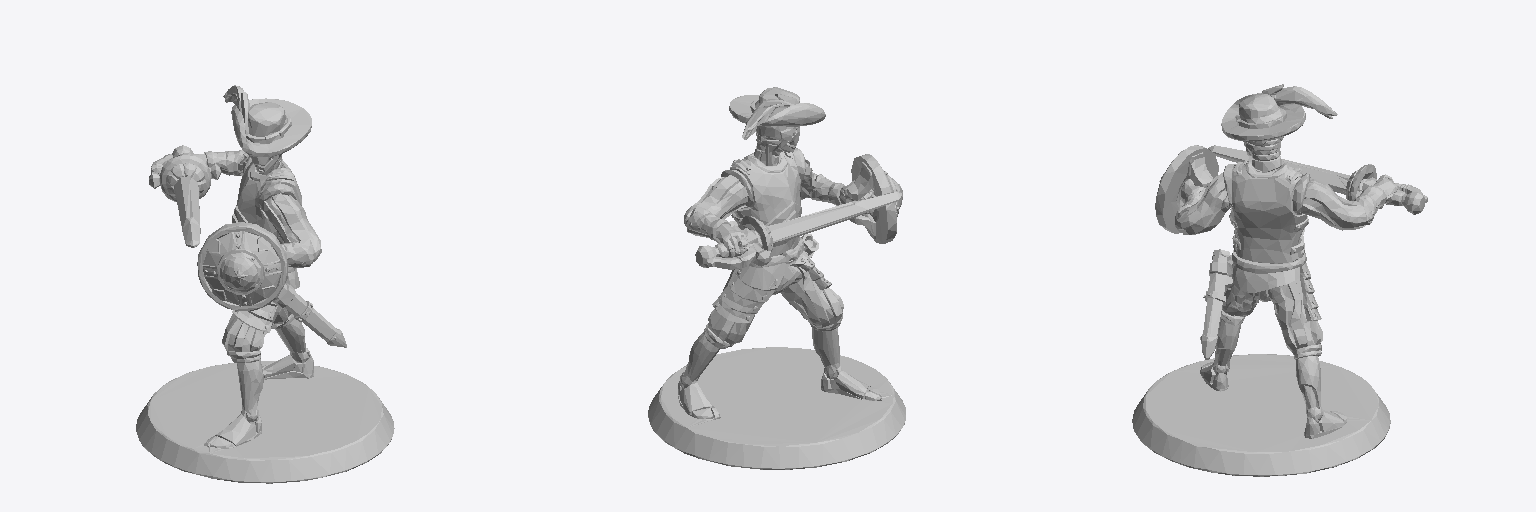
File: Speaker.obj
The picture shows the model from 3 angles: view 1: azimuth 30°, elevation 25°; view 2: azimuth 150°, elevation 25°; view 3: azimuth 270°, elevation 25°; orthographic projection.
Parts seen in each view (by area): view 1: Speaker; view 2: Speaker; view 3: Speaker.
Boxes of the visible parts, box(x1,y1,x2,y2) form: Speaker: box(136, 85, 394, 483); Speaker: box(648, 87, 905, 469); Speaker: box(1132, 84, 1427, 476).
Bounding box in the file's own units: 0.9398 × 1.34 × 1.08.